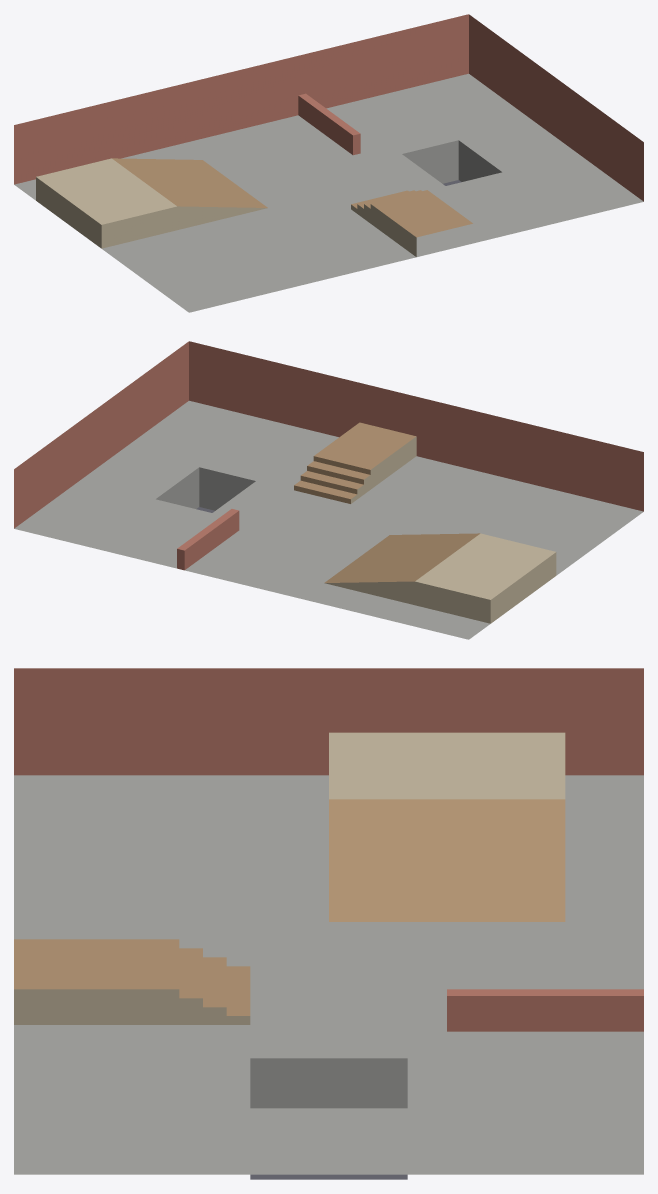
The model's file is mesh_level.glb.
3 views of the same model, one above another, from view 1: azimuth 30°, elevation 25°; view 2: azimuth 150°, elevation 25°; view 3: azimuth 270°, elevation 25° (orthographic). The views are drawn at different scales.
Visible parts, largest first — view 1: courtyard; view 2: courtyard; view 3: courtyard.
Boxes of the visible parts, x1=… form: courtyard: x1=14, y1=14, x2=643, y2=312; courtyard: x1=14, y1=341, x2=643, y2=639; courtyard: x1=14, y1=668, x2=643, y2=1179.
Bounding box in the file's own units: 24 × 5 × 16.
